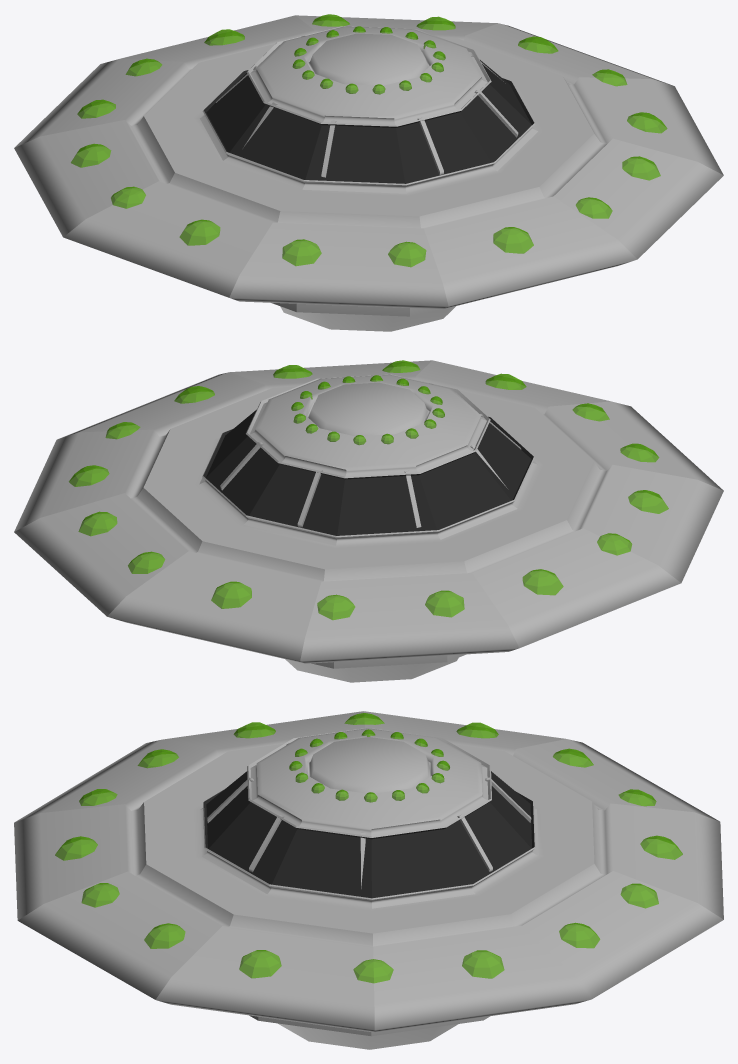
The model's file is UFO.fbx.
3 renders of one model, top to bottom at view 1: azimuth 30°, elevation 25°; view 2: azimuth 150°, elevation 25°; view 3: azimuth 270°, elevation 25°, orthographic. The views are drawn at different scales.
Parts seen in each view (by area): view 1: polySurface37; view 2: polySurface37; view 3: polySurface37.
Boxes of the visible parts, <box> form: polySurface37: <box>14,14,723,331</box>; polySurface37: <box>14,360,723,682</box>; polySurface37: <box>14,711,723,1049</box>.
Size of the model in its own units: 200 by 73.15 by 191.
